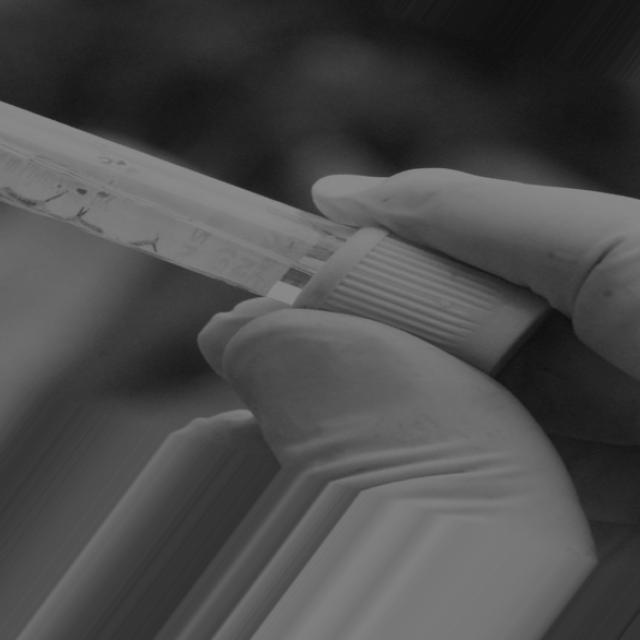larvas: (4, 183, 67, 206), (130, 228, 160, 252), (50, 206, 82, 225), (83, 208, 103, 235)
